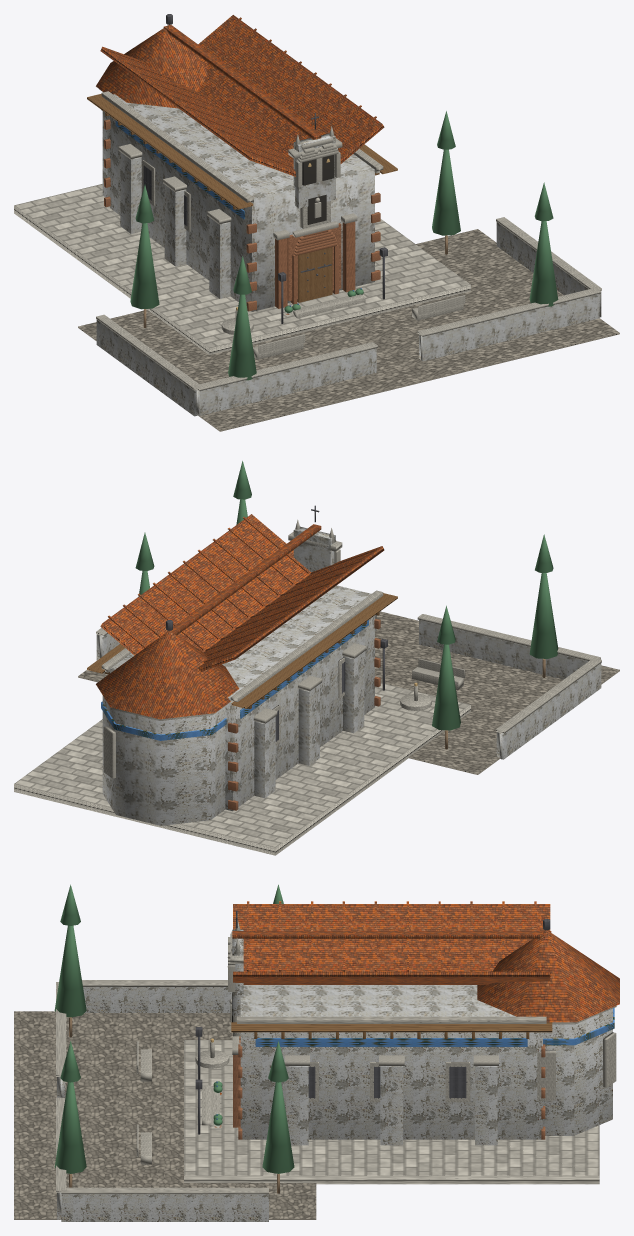
File: ermita_montemayor.glb
The picture shows the model from 3 angles, top to bottom: view 1: azimuth 30°, elevation 25°; view 2: azimuth 150°, elevation 25°; view 3: azimuth 270°, elevation 25°; orthographic projection. The views are drawn at different scales.
Visible parts, largest first — view 1: Grupo_1_13piezas, Grupo_0_56piezas, EM_Patio_Empedrado, Grupo_6_28piezas, Grupo_10_12piezas, Grupo_2_33piezas, Grupo_7_35piezas, Grupo_4_17piezas, Grupo_5_66piezas, Grupo_3_9piezas; view 2: Grupo_1_13piezas, Grupo_0_56piezas, Grupo_6_28piezas, EM_Patio_Empedrado, Grupo_10_12piezas, Grupo_7_35piezas, Grupo_3_9piezas, Grupo_2_33piezas, Grupo_5_66piezas; view 3: Grupo_1_13piezas, Grupo_0_56piezas, Grupo_6_28piezas, EM_Patio_Empedrado, Grupo_10_12piezas, Grupo_7_35piezas, Grupo_3_9piezas, Grupo_5_66piezas, Grupo_2_33piezas.
Part boxes in pixels (box(x1,y1,x2,y2)): Grupo_1_13piezas: box(96, 92, 601, 416); Grupo_0_56piezas: box(14, 89, 601, 391); EM_Patio_Empedrado: box(78, 229, 619, 431); Grupo_6_28piezas: box(96, 15, 384, 314); Grupo_10_12piezas: box(130, 111, 558, 380); Grupo_2_33piezas: box(104, 119, 380, 311); Grupo_7_35piezas: box(87, 93, 397, 302); Grupo_4_17piezas: box(302, 155, 334, 224); Grupo_5_66piezas: box(143, 14, 387, 323); Grupo_3_9piezas: box(101, 109, 361, 306); Grupo_1_13piezas: box(96, 526, 601, 825); Grupo_0_56piezas: box(14, 519, 601, 855); Grupo_6_28piezas: box(96, 514, 384, 719); EM_Patio_Empedrado: box(78, 611, 619, 774); Grupo_10_12piezas: box(135, 461, 558, 730); Grupo_7_35piezas: box(87, 593, 397, 708); Grupo_3_9piezas: box(101, 620, 368, 740); Grupo_2_33piezas: box(228, 618, 380, 810); Grupo_5_66piezas: box(166, 505, 387, 741); Grupo_1_13piezas: box(57, 929, 612, 1221); Grupo_0_56piezas: box(56, 920, 616, 1194); Grupo_6_28piezas: box(214, 901, 619, 1127); EM_Patio_Empedrado: box(14, 1011, 316, 1219); Grupo_10_12piezas: box(54, 884, 294, 1173); Grupo_7_35piezas: box(231, 1022, 552, 1038); Grupo_3_9piezas: box(216, 1008, 614, 1119); Grupo_5_66piezas: box(195, 910, 550, 1134); Grupo_2_33piezas: box(233, 1036, 545, 1139).
Bounding box in the file's own units: 26.55 × 12 × 32.08.
Materials: 13 (9 with a texture image).
